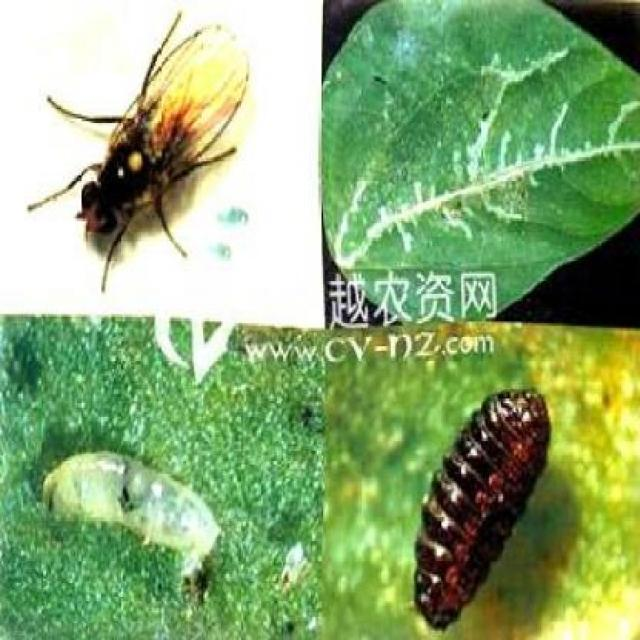whorl-maggot: (389, 386, 557, 640), (36, 438, 230, 582)
